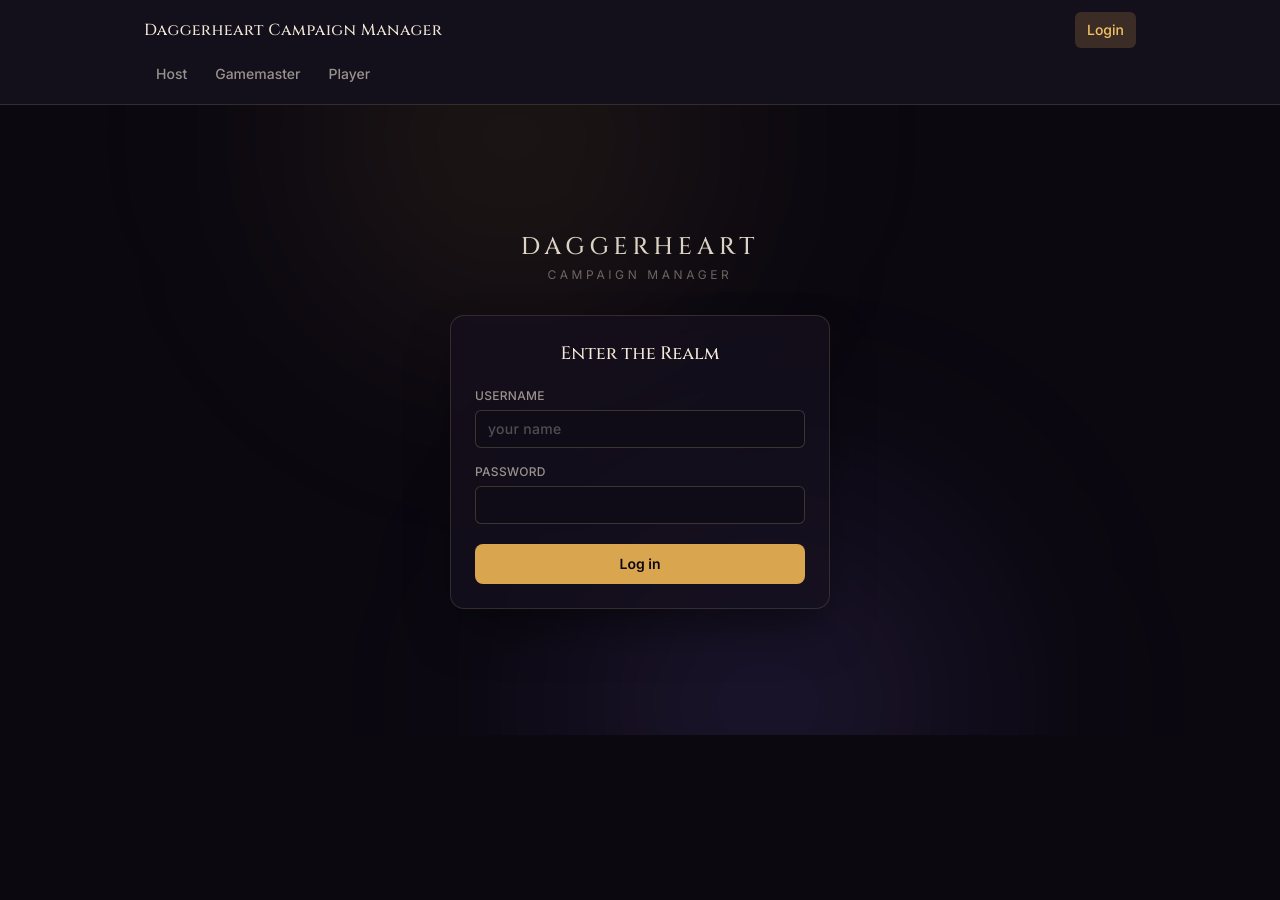
Test: App › logs in and redirects to the user role area
Type "alice" into the field labelled "Username" at (640, 429), box left=475, top=410, right=805, bottom=448
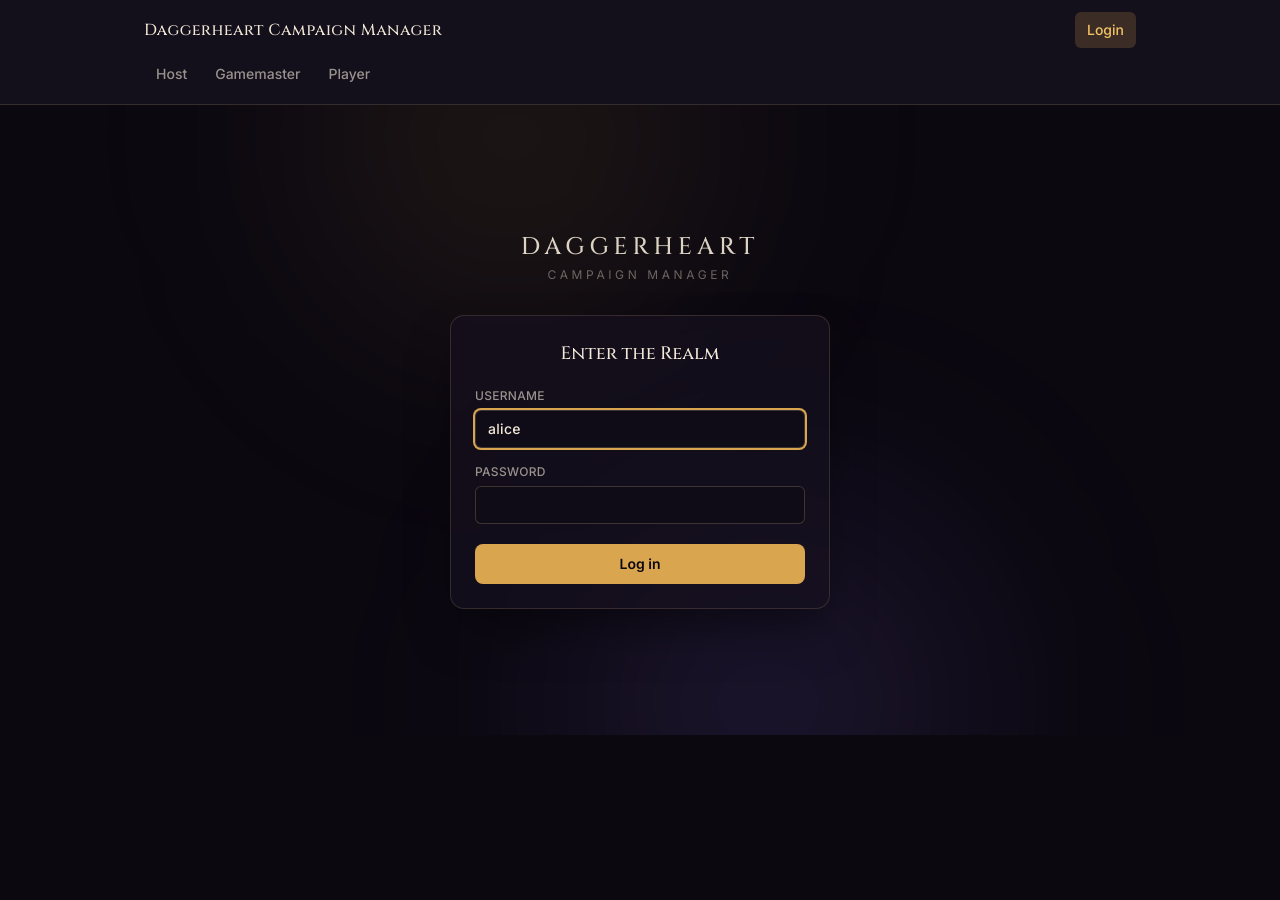
Type "correct-horse" into the password field labelled "Password" at (640, 505), box left=475, top=486, right=805, bottom=524
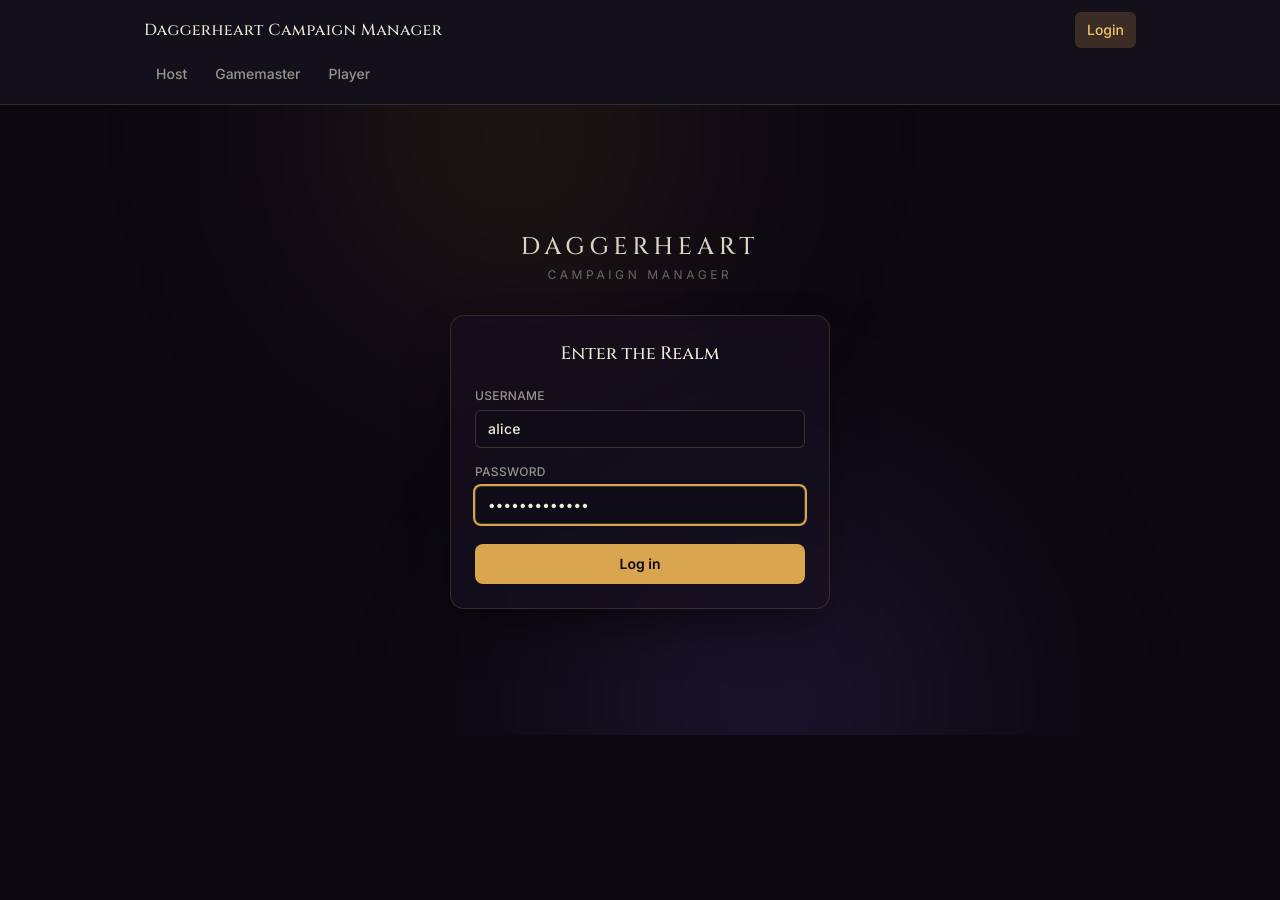
Click the button "Log in" at (640, 564), box left=475, top=544, right=805, bottom=584
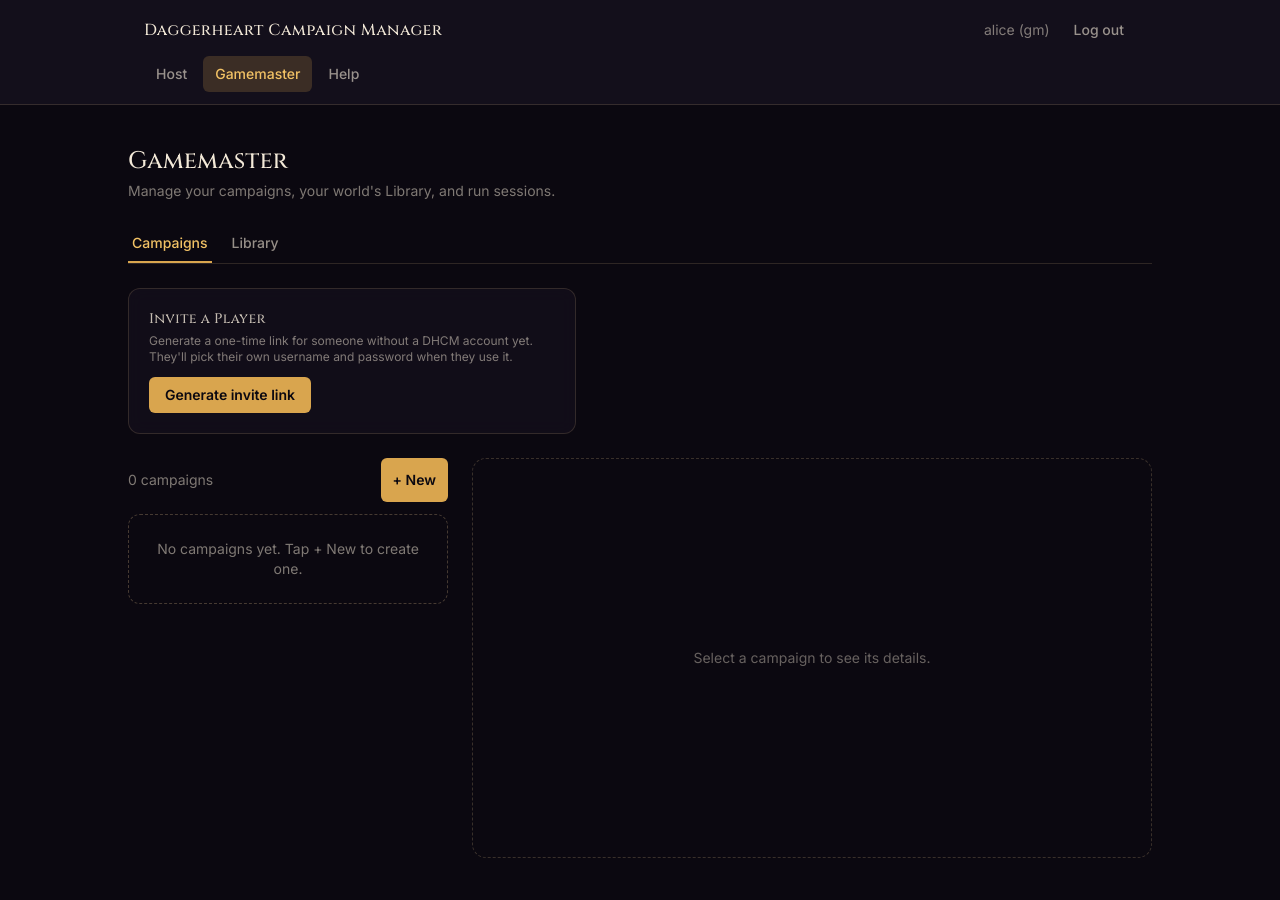
Check: the heading "Gamemaster" is shown, box left=128, top=145, right=288, bottom=177
